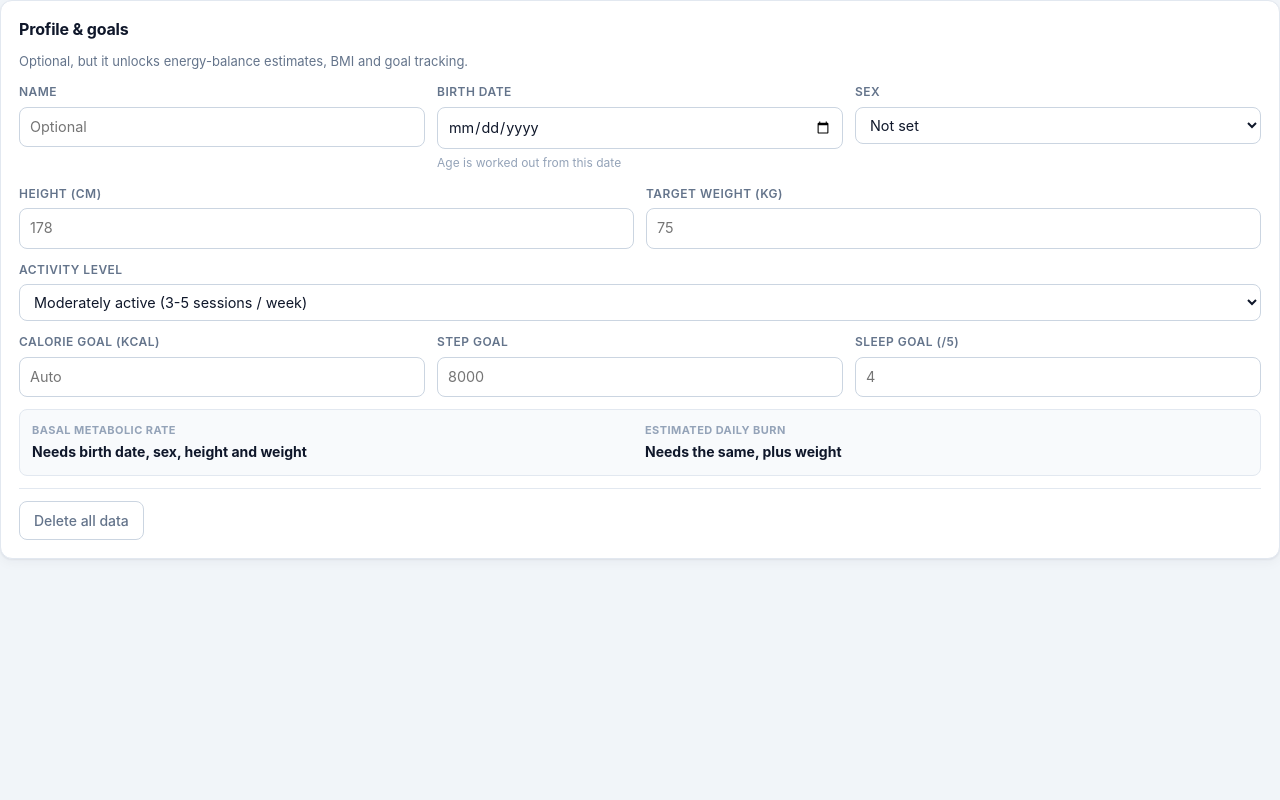
Test: ProfilePanel › cancels the deletion
Click the button "Delete all data": (81, 521) 19,501 -> 144,540
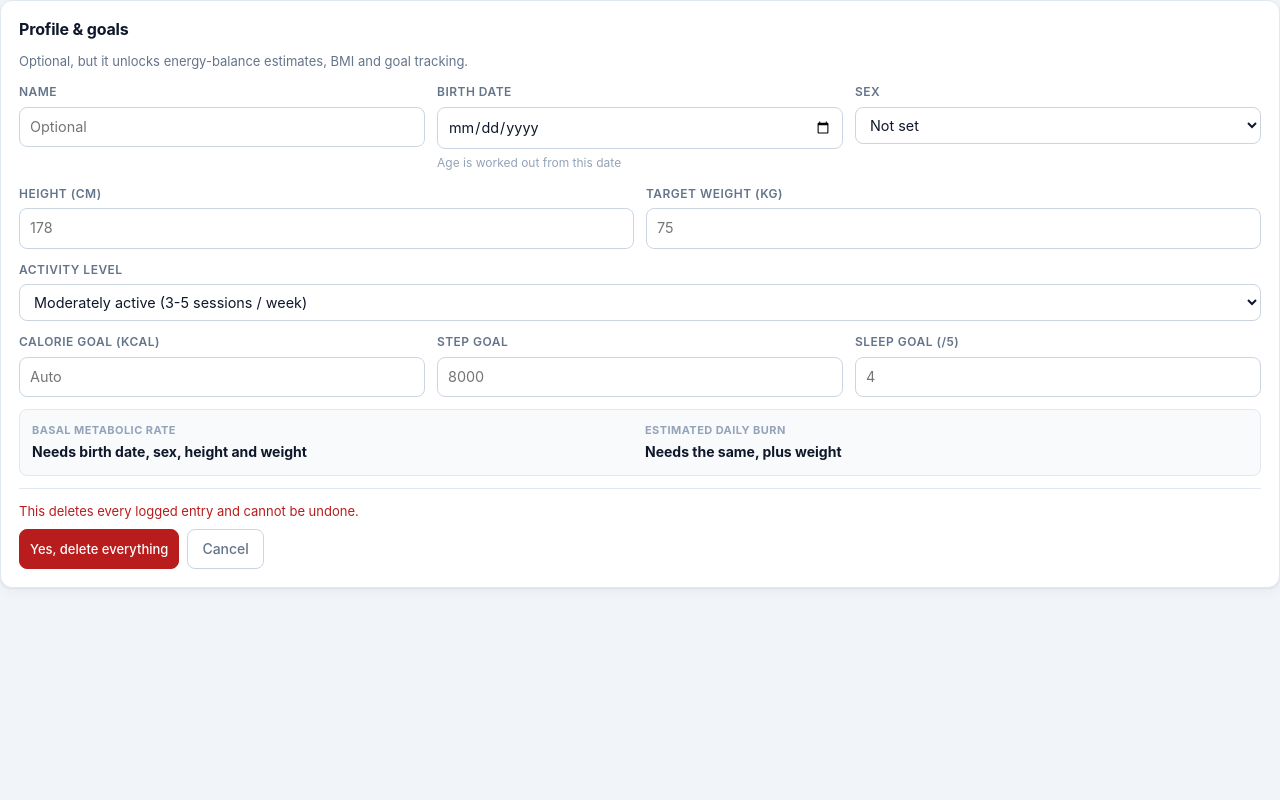
Click the button "Cancel": (226, 549) 187,529 -> 264,569
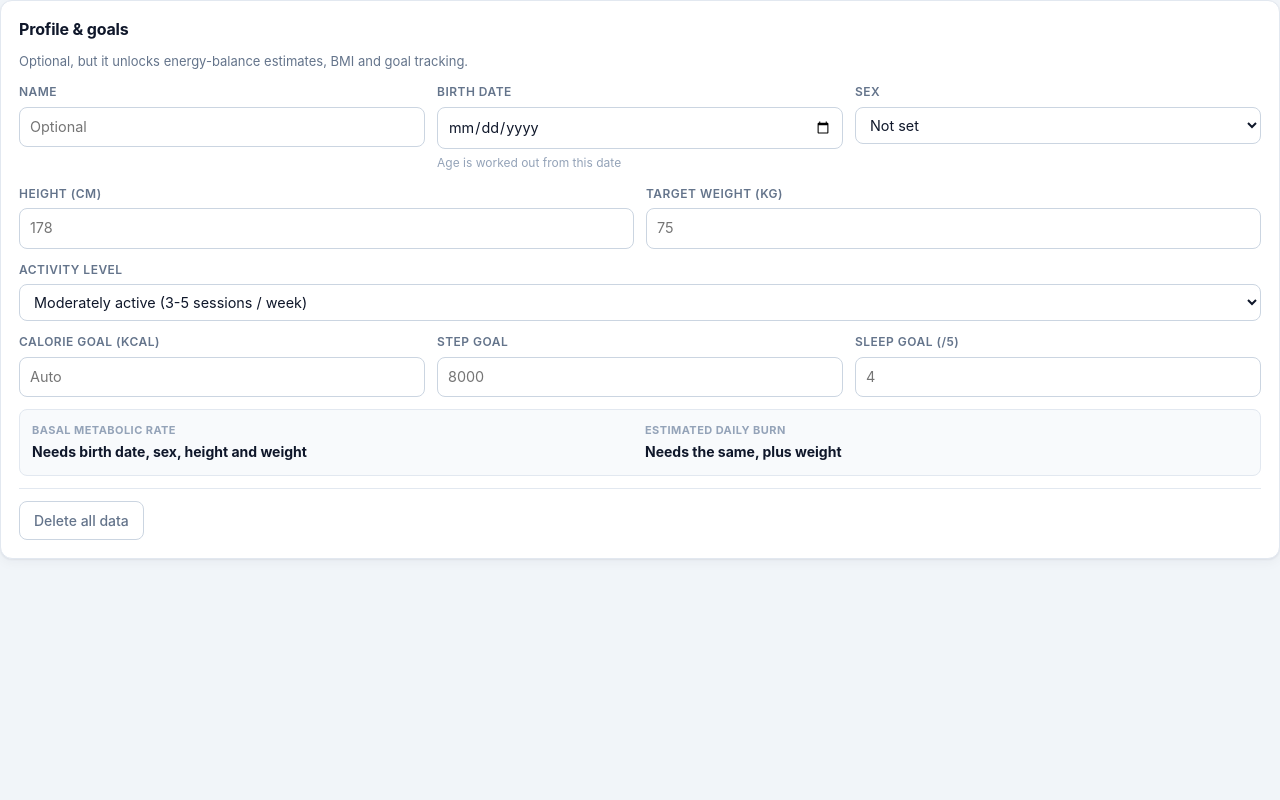
Expected: the button "Delete all data" is shown, 19,501 -> 144,540
